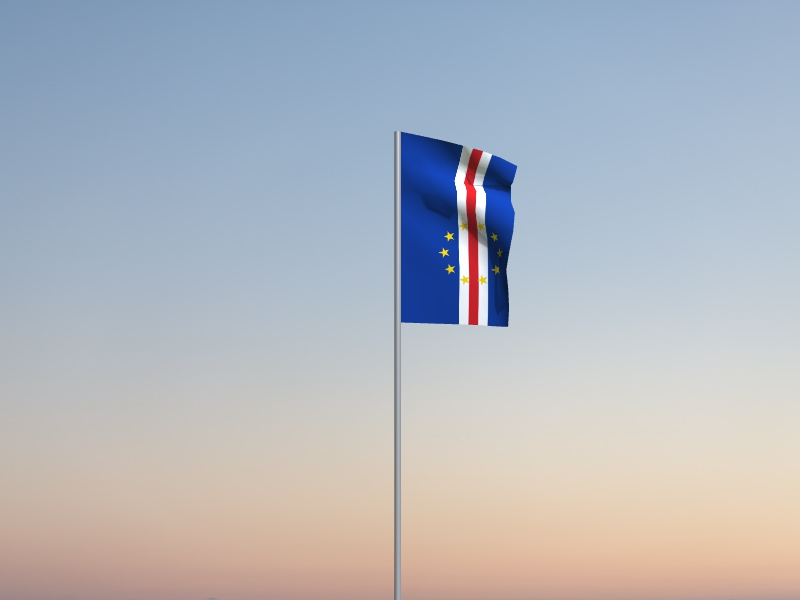cv: (402, 132, 519, 329)
